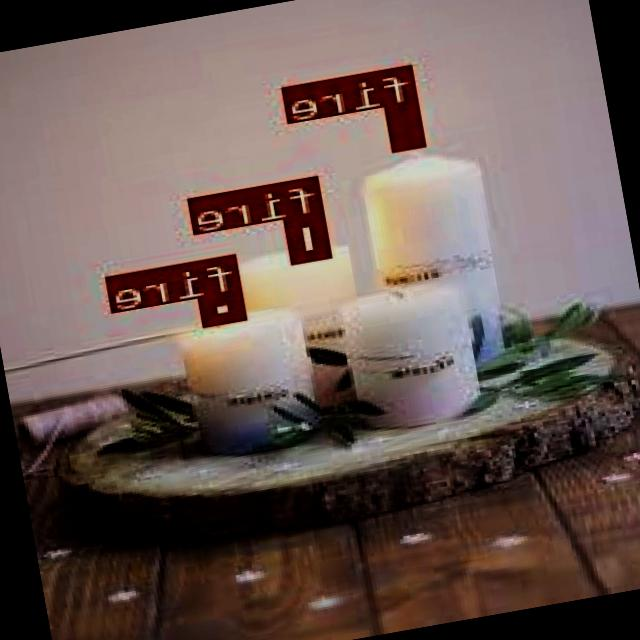fire: (286, 210, 334, 260), (388, 98, 426, 148), (204, 288, 248, 324)
